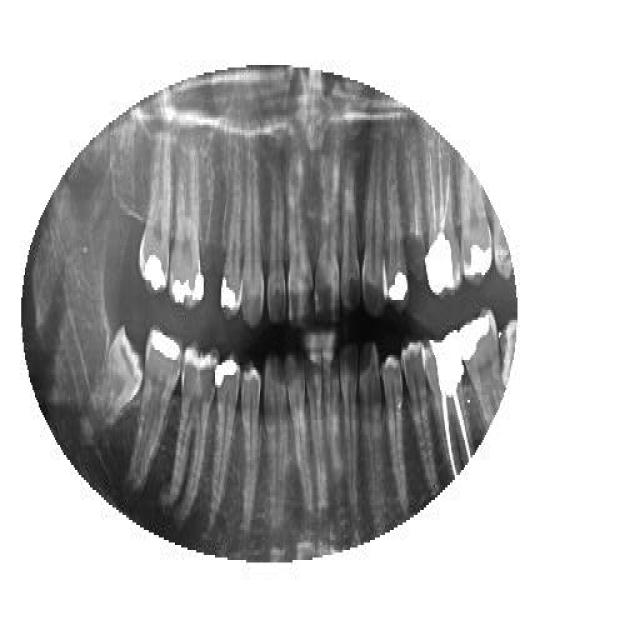Cavity: (406, 157, 425, 285)
Fillings: (128, 328, 184, 490), (457, 305, 505, 427), (138, 130, 174, 292), (209, 352, 241, 530), (168, 152, 204, 308), (385, 147, 409, 315), (462, 162, 492, 288), (218, 180, 242, 322)
Impacted Tooth: (93, 320, 145, 432)
Implant: (423, 325, 472, 477), (425, 132, 464, 298)
